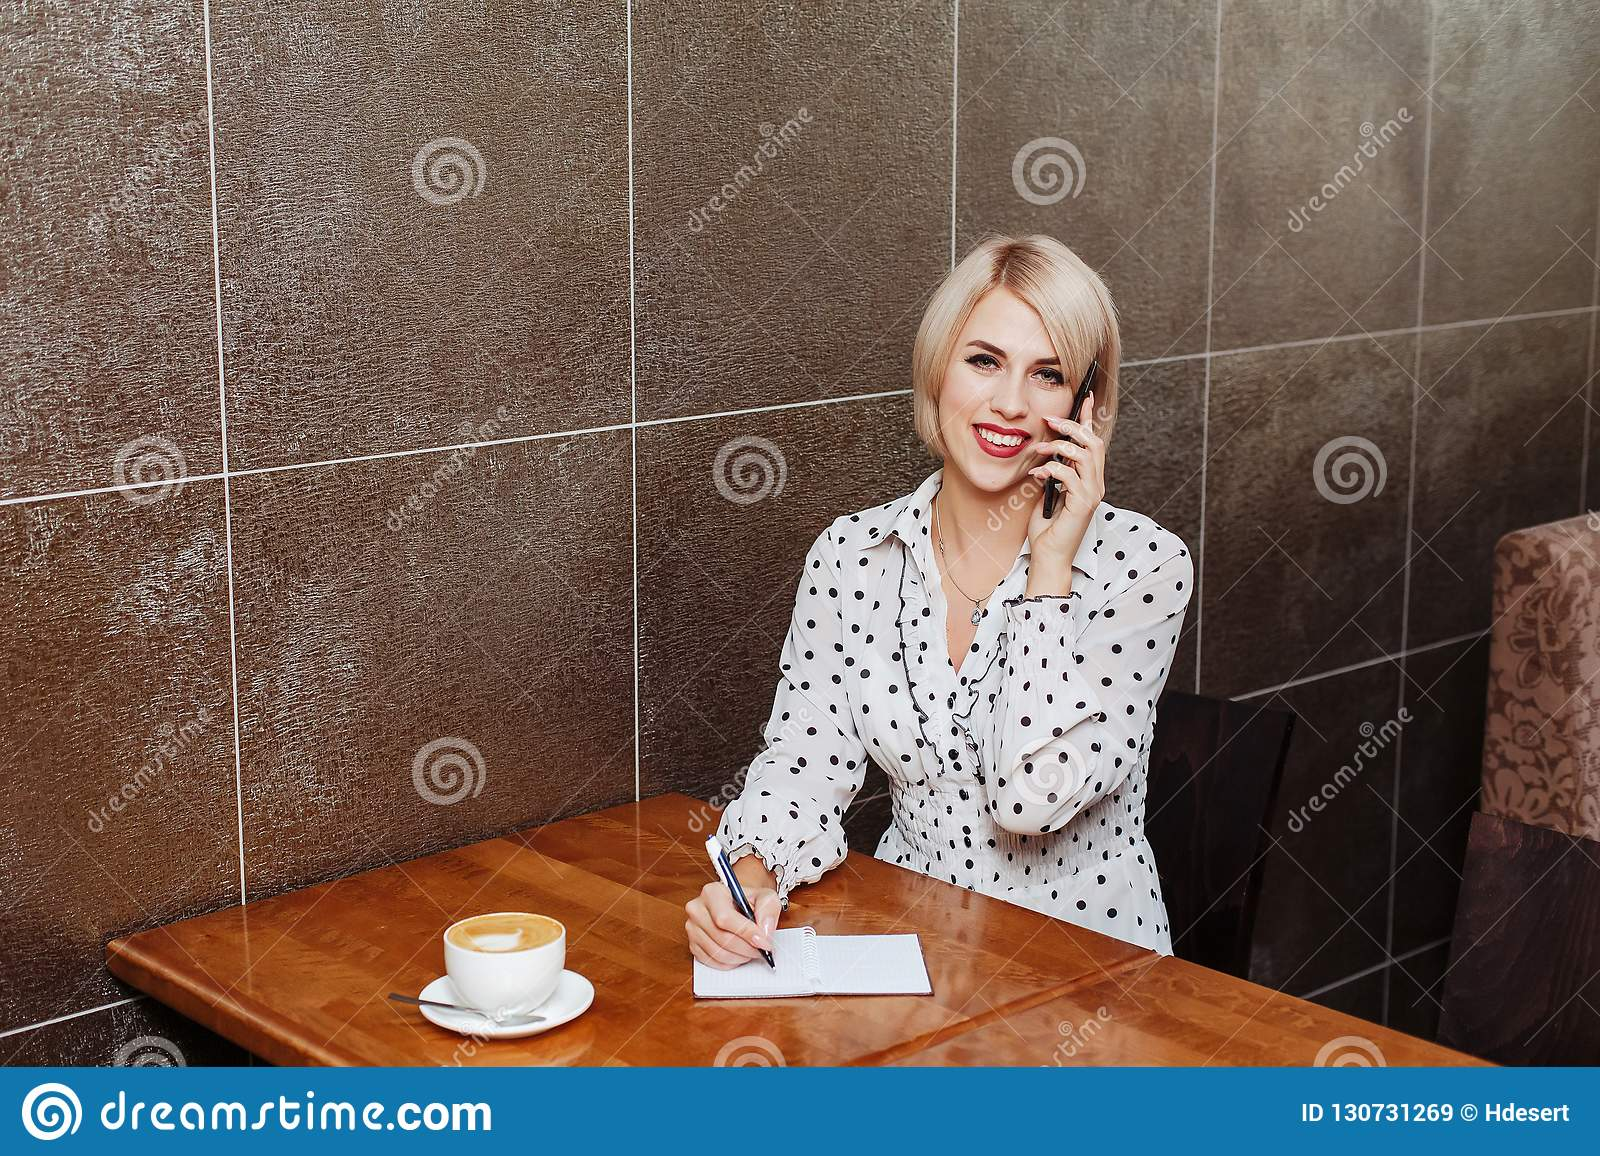phone: (1041, 341, 1104, 522)
talk: (948, 327, 1112, 571)
